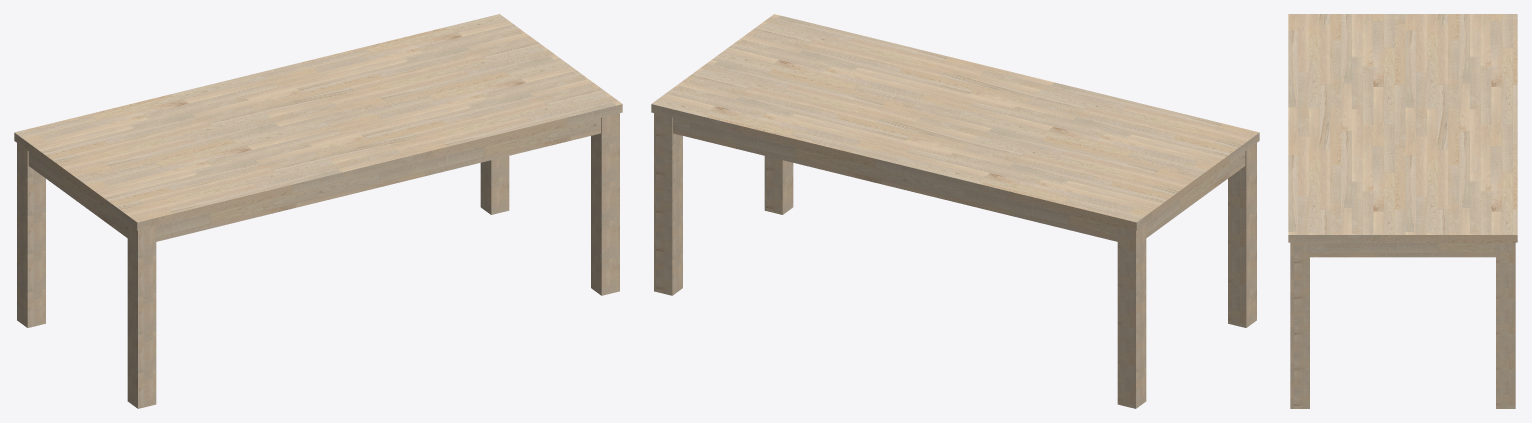
The model's file is oak_table.dae.
The picture shows the model from 3 angles, left to right: view 1: azimuth 30°, elevation 25°; view 2: azimuth 150°, elevation 25°; view 3: azimuth 270°, elevation 25°; orthographic projection. The views are drawn at different scales.
Visible parts, largest first — view 1: group_0 (×6); view 2: group_0 (×6); view 3: group_0 (×4).
Boxes of the visible parts, x1=… form: group_0 (×6): x1=14, y1=14, x2=622, y2=408; group_0 (×6): x1=651, y1=14, x2=1259, y2=408; group_0 (×4): x1=1288, y1=14, x2=1517, y2=408.
Bounding box in the file's own units: 83.66 × 36.73 × 30.91.
2 materials, 2 textured.
